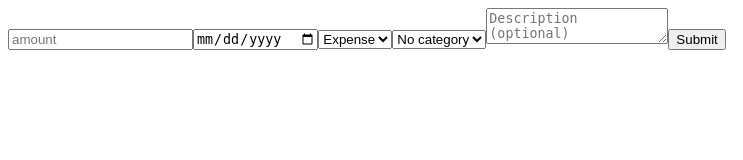
Scenario: TransactionForm submission › shows an error and does not add when the API request fails
Type "450" into the number field with placeholder "amount".
click(100, 40); type("450")  # box [8,29,193,50]
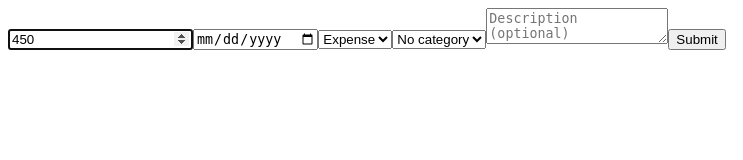
Type "2026-11-20" into the date field.
click(256, 39); type("2026-11-20")  # box [193,29,318,50]
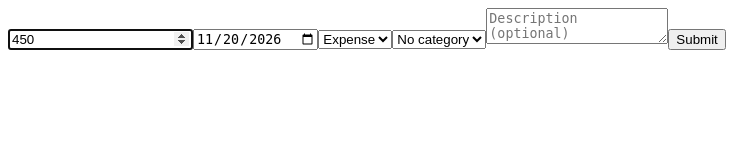
Type "Bonus" into the text box with placeholder "Description (optional)".
click(577, 26); type("Bonus")  # box [486,8,668,44]
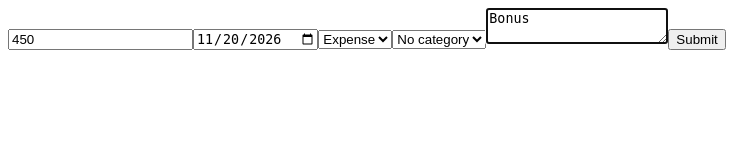
Click the button "Submit".
click(697, 40)  # box [668,29,726,50]
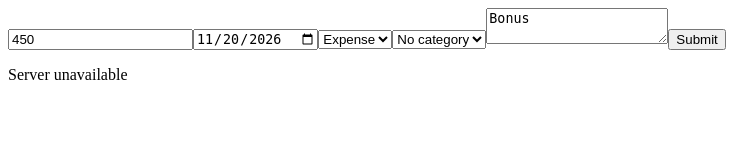
Now the message reads "Server unavailable", box [8,66,128,83]
